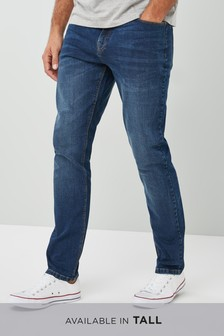jeans: (40, 20, 189, 275)
